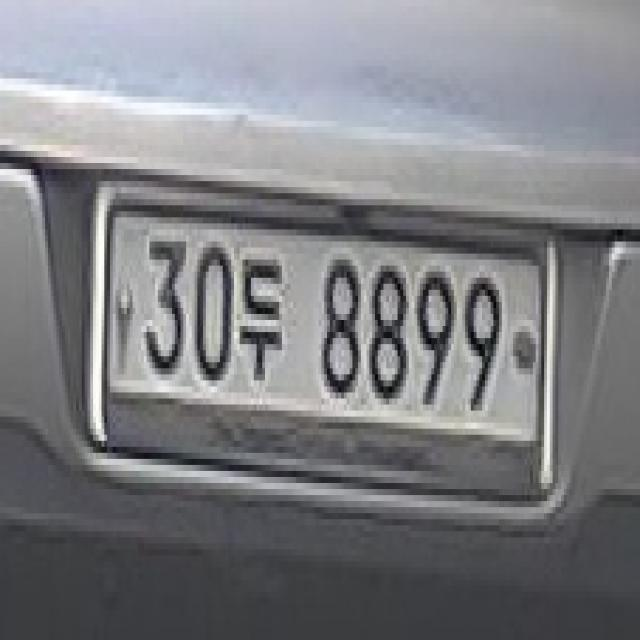0: (192, 242, 234, 386), (189, 248, 231, 386)
3: (144, 230, 189, 374)
8: (318, 242, 361, 398), (366, 266, 412, 404)
9: (414, 260, 457, 410), (459, 266, 502, 416)
du: (237, 248, 285, 386)
license_plate: (98, 181, 550, 453)
